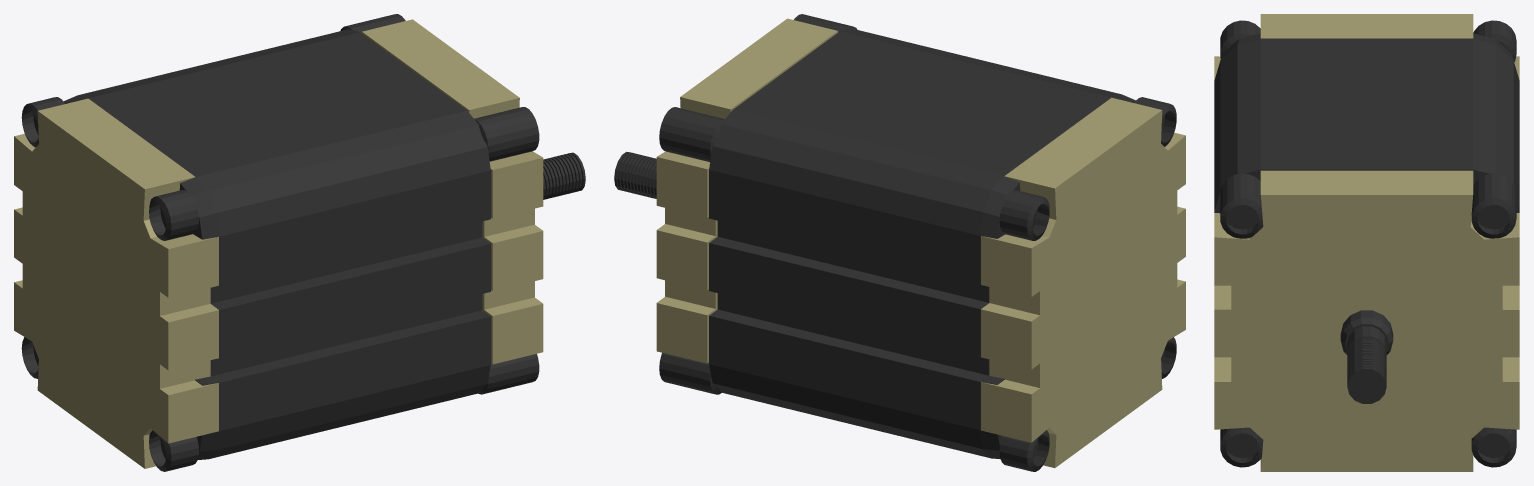
The picture shows the model from 3 angles, left to right: view 1: azimuth 30°, elevation 25°; view 2: azimuth 150°, elevation 25°; view 3: azimuth 270°, elevation 25°; orthographic projection.
Visible parts, largest first — view 1: Cube.002; view 2: Cube.002; view 3: Cube.002.
Part boxes in pixels (bbox=[...]): Cube.002: bbox=[14, 14, 585, 471]; Cube.002: bbox=[614, 14, 1185, 471]; Cube.002: bbox=[1214, 14, 1519, 471].
Bounding box in the file's own units: 3.63 × 2 × 2.
